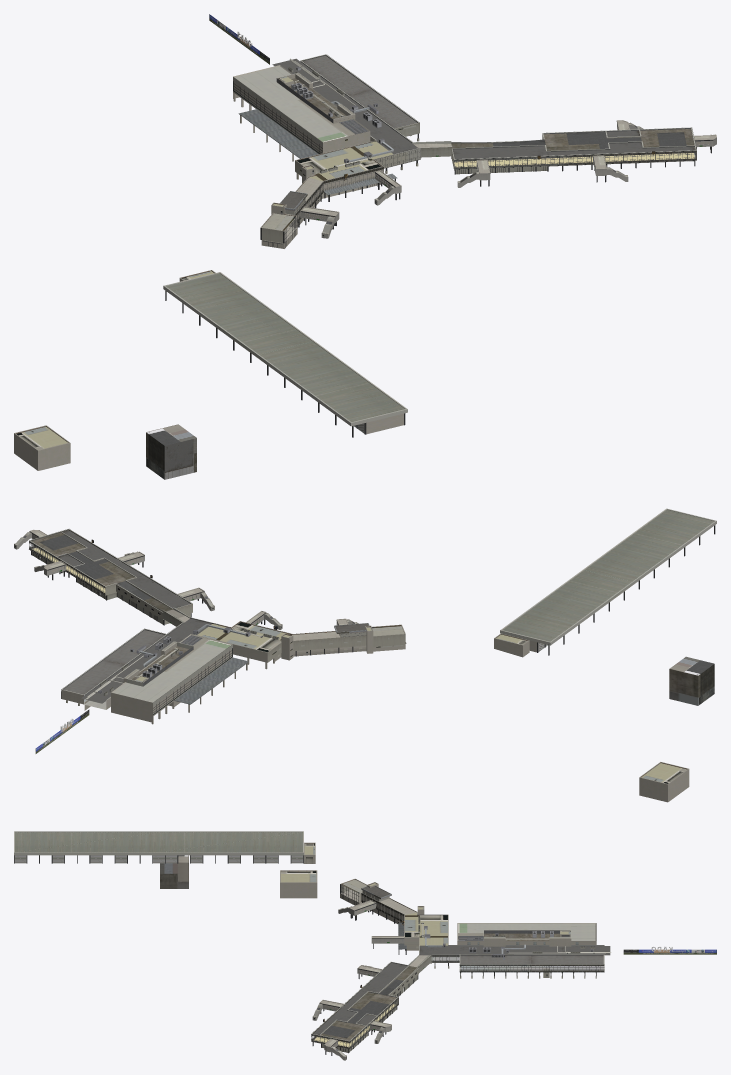
Rendered from kado_02.glb.
3 views of the same model, one above another, from view 1: azimuth 30°, elevation 25°; view 2: azimuth 150°, elevation 25°; view 3: azimuth 270°, elevation 25° (orthographic). The views are drawn at different scales.
Parts seen in each view (by area): view 1: Cube.148, Cube.100, Cube.1588, Cube.1623, Cube.001, Cube.1524, Cube.327, Cube.1573, Cube.146, Cube.1719, Cube.005, Cube.1723 (+1 smaller); view 2: Cube.148, Cube.100, Cube.1588, Cube.001, Cube.1623, Cube.1524, Cube.327, Cube.1573, Cube.146, Cube.1719, Cube.1723, Cube.058 (+2 smaller); view 3: Cube.148, Cube.100, Cube.1524, Cube.146, Cube.1588, Cube.1573, Cube.1623, Cube.151, Cube.327, Cube.001, Cube.006, Cube.1523 (+4 smaller).
Boxes of the visible parts, <box> form: Cube.148: <box>166,273,404,422</box>; Cube.100: <box>453,129,696,169</box>; Cube.1588: <box>233,65,369,142</box>; Cube.1623: <box>295,140,420,189</box>; Cube.001: <box>146,424,196,479</box>; Cube.1524: <box>303,55,417,128</box>; Cube.327: <box>14,425,70,470</box>; Cube.1573: <box>272,58,418,153</box>; Cube.146: <box>163,272,407,426</box>; Cube.1719: <box>233,77,322,154</box>; Cube.005: <box>454,153,694,167</box>; Cube.1723: <box>238,109,318,158</box>; Cube.148: <box>503,510,714,641</box>; Cube.100: <box>29,529,191,608</box>; Cube.1588: <box>111,634,232,722</box>; Cube.001: <box>669,656,714,705</box>; Cube.1623: <box>196,621,291,662</box>; Cube.1524: <box>63,630,164,694</box>; Cube.327: <box>639,762,689,802</box>; Cube.1573: <box>81,618,211,703</box>; Cube.146: <box>500,508,716,645</box>; Cube.1719: <box>153,644,232,716</box>; Cube.1723: <box>174,657,248,704</box>; Cube.058: <box>293,635,366,650</box>; Cube.148: <box>15,832,302,852</box>; Cube.100: <box>311,963,407,1048</box>; Cube.1524: <box>459,955,604,971</box>; Cube.146: <box>14,831,303,855</box>; Cube.1588: <box>457,923,596,940</box>; Cube.1573: <box>419,945,610,962</box>; Cube.1623: <box>404,914,448,945</box>; Cube.151: <box>14,855,303,863</box>; Cube.327: <box>280,870,317,898</box>; Cube.001: <box>160,855,188,888</box>; Cube.006: <box>431,957,603,970</box>; Cube.1523: <box>460,964,604,972</box>.
Size of what is drawn, in the model's own units: 44.28 by 8.93 by 48.52.
Materials: 16 (11 with a texture image).
